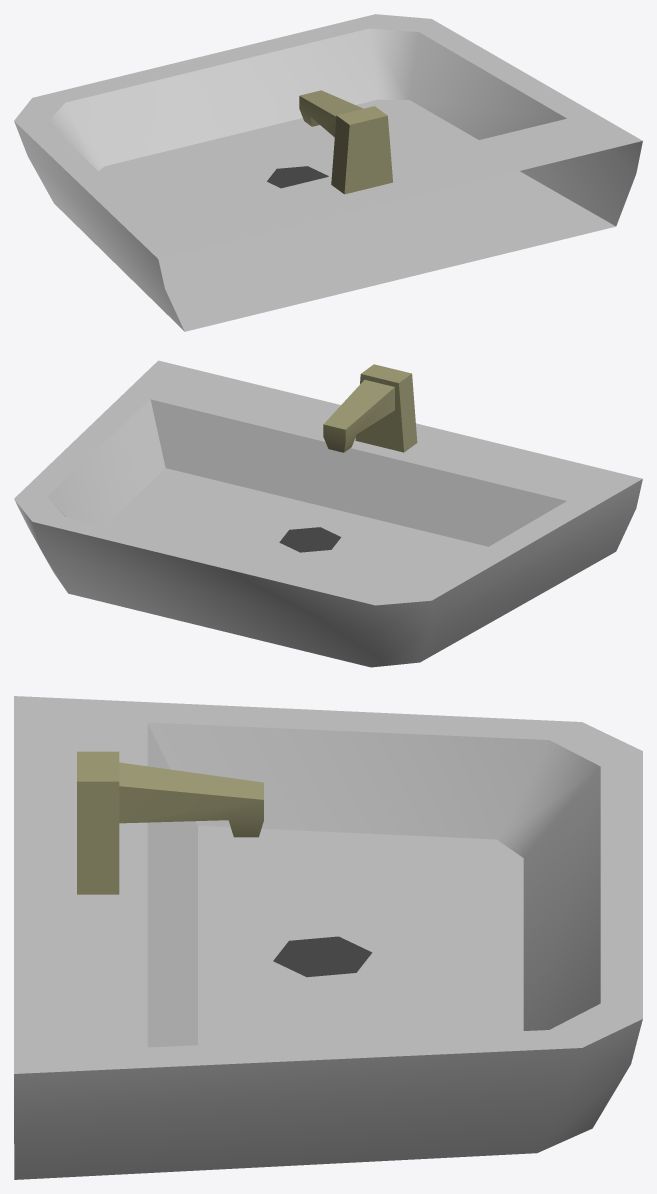
File: SM_Wash_01.fbx
3 views of the same model, one above another, from view 1: azimuth 30°, elevation 25°; view 2: azimuth 150°, elevation 25°; view 3: azimuth 270°, elevation 25° (orthographic). The views are drawn at different scales.
Visible parts, largest first — view 1: SM_Wash_01; view 2: SM_Wash_01; view 3: SM_Wash_01.
Part boxes in pixels (<box>): SM_Wash_01: <box>14,14,642,331</box>; SM_Wash_01: <box>14,360,642,667</box>; SM_Wash_01: <box>14,696,642,1179</box>.
Bounding box in the file's own units: 101 × 29.42 × 71.17.
